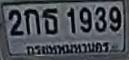1: (67, 7, 74, 33)
2: (8, 9, 22, 35)
3: (94, 6, 106, 31)
9: (79, 6, 91, 32), (108, 5, 120, 31)
A01: (24, 8, 40, 34)
A24: (42, 7, 57, 34)
BKK: (24, 41, 111, 56)
